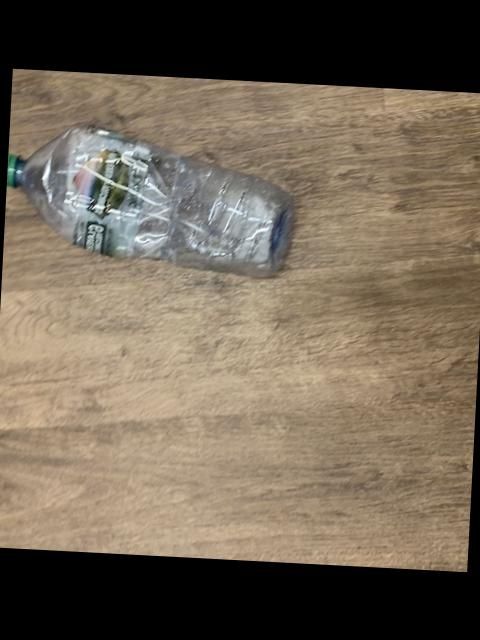plastic: (7, 125, 290, 274)
